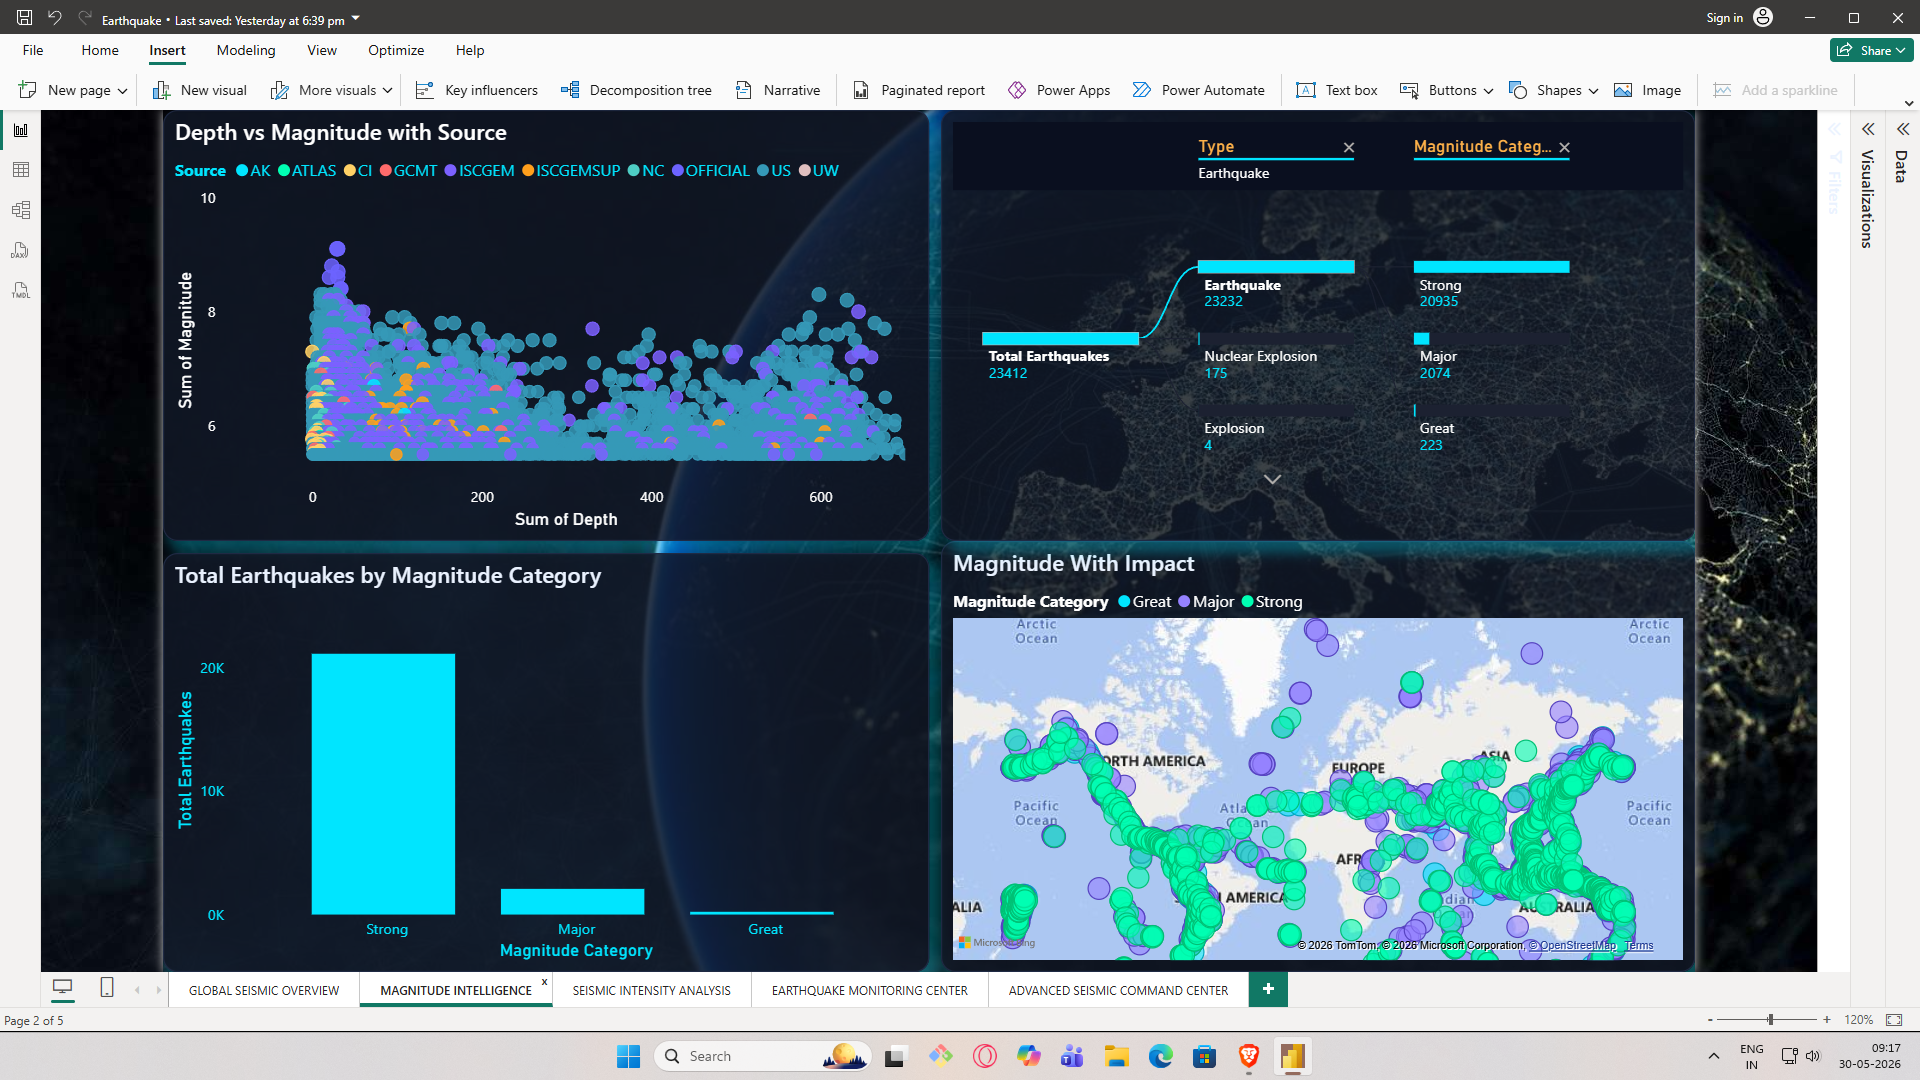

The dashboard page shown, as its layout file describes it:
{"tool":"powerbi","page":{"name":"MAGNITUDE INTELLIGENCE","canvas":[1280,720],"ordinal":1},"visuals":[{"type":"scatterChart","title":"Depth vs Magnitude with Source","fields":{"X":["Sum(earthquake.Depth)"],"Y":["Sum(earthquake.Magnitude)"],"Size":["Sum(earthquake.Magnitude)"],"Category":["earthquake.ID"],"Series":["earthquake.Source"]},"box":[0,0,640,359.9],"z":0},{"type":"columnChart","fields":{"Category":["earthquake.Magnitude Category"],"Y":["earthquake.Total Earthquakes"]},"box":[0,370,640,350],"z":1000},{"type":"map","title":"Magnitude With Impact","fields":{"X":["earthquake.Longitude"],"Y":["earthquake.Latitude"],"Size":["Avg(earthquake.Magnitude)"],"Series":["earthquake.Magnitude Category"]},"box":[649.7,359.9,630.3,359.9],"z":2000},{"type":"decompositionTreeVisual","fields":{"Analyze":["earthquake.Total Earthquakes"],"ExplainBy":["earthquake.Type","earthquake.Magnitude Category"]},"box":[650,0,630,360],"z":3000}]}

Visuals, with their boxes on the page's 1280x720 design canvas (x1, y1, x2, y2). These are canvas units, not pixel positions in the 1920x1080 screenshot, which may show the page scaled, cropped or inside an application window:
"Depth vs Magnitude with Source" scatterChart: [x1=0, y1=0, x2=640, y2=360]
columnChart - earthquake.Magnitude Category x earthquake.Total Earthquakes: [x1=0, y1=370, x2=640, y2=720]
"Magnitude With Impact" map: [x1=650, y1=360, x2=1280, y2=720]
decompositionTreeVisual - earthquake.Total Earthquakes x earthquake.Type: [x1=650, y1=0, x2=1280, y2=360]
